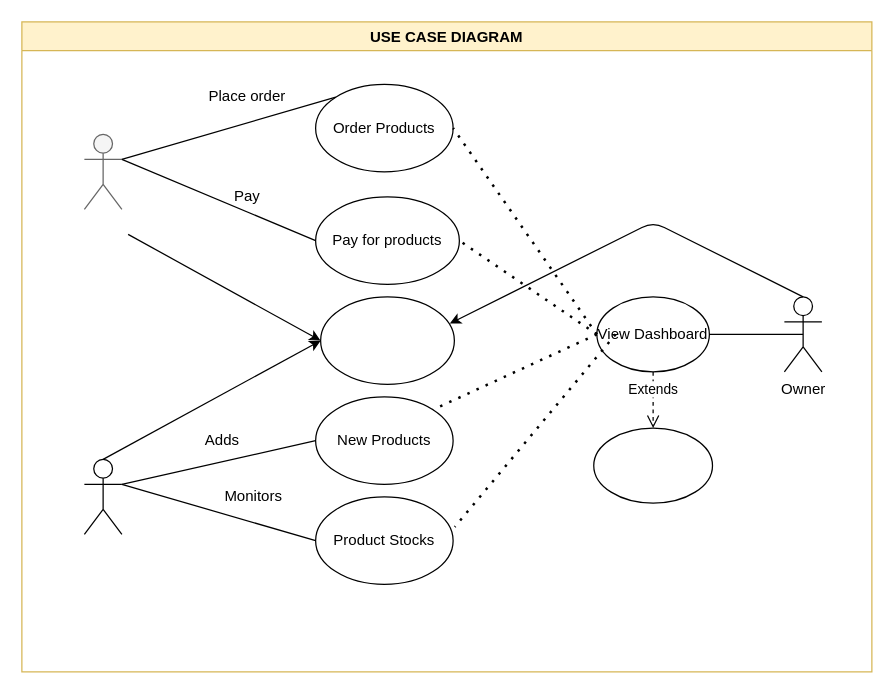
The diagram is 894 pixels wide and 694 high, and some of its shapes have lost their labels. The shapes that lost their labels are listed below. From the top down, each one's box as (x1, y1, x2, y2) in pixels, then its label:
(83, 133, 122, 209): Customer
(319, 296, 454, 384): Login
(592, 427, 712, 503): View Stats
(83, 458, 122, 534): Website Manager
